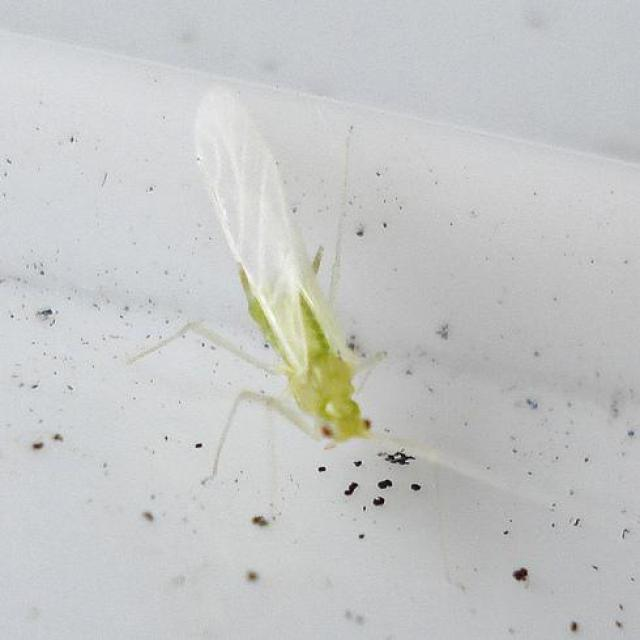Aphids: (93, 111, 434, 527)
